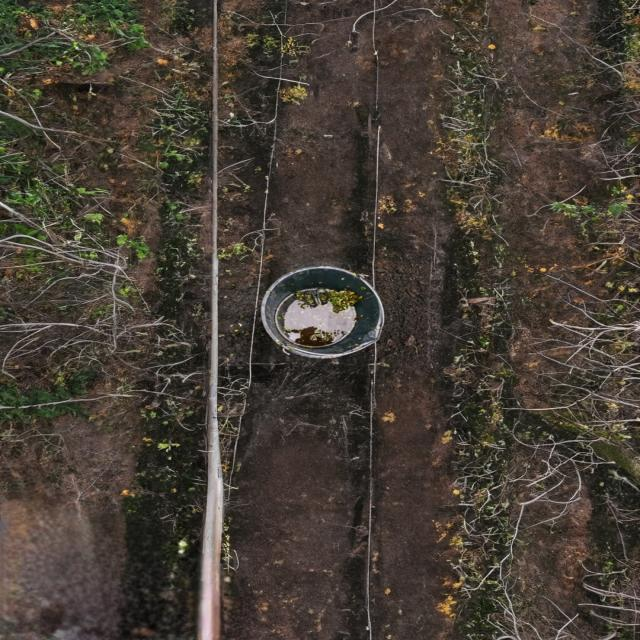Breeding Place: (110, 0, 286, 640), (231, 226, 413, 396)
